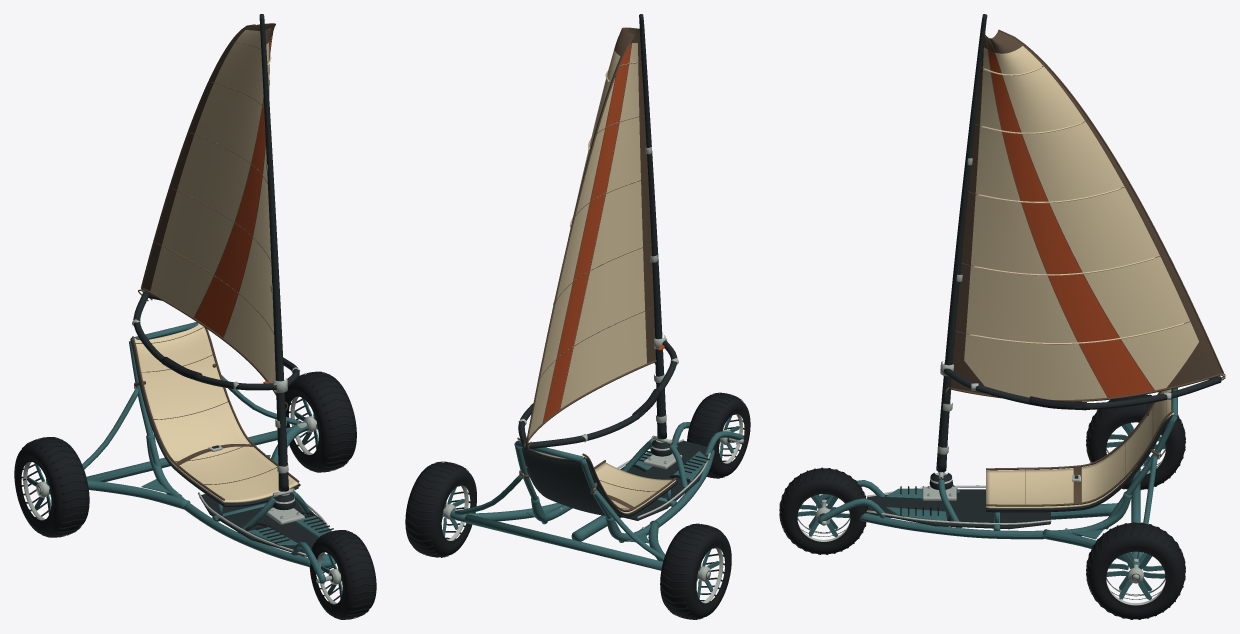
File: sand_sail_kart.glb
The picture shows the model from 3 angles, left to right: view 1: azimuth 30°, elevation 25°; view 2: azimuth 150°, elevation 25°; view 3: azimuth 270°, elevation 25°; orthographic projection. The views are drawn at different scales.
Parts seen in each view (by area): view 1: Cambered_Canvas_Sail, Chassis_Canvas, Chassis_Frame, Wheel_Rear_L_Rubber, Rig_Dark, Wheel_Rear_R_Rubber, Wheel_Front_Rubber, Chassis_Dark, Rig_Web, Chassis_Web, Chassis_Metal; view 2: Cambered_Canvas_Sail, Chassis_Frame, Chassis_Dark, Wheel_Rear_L_Rubber, Wheel_Rear_R_Rubber, Rig_Dark, Wheel_Front_Rubber, Rig_Web, Chassis_Canvas, Chassis_Metal, Chassis_Web; view 3: Cambered_Canvas_Sail, Chassis_Frame, Chassis_Canvas, Wheel_Rear_R_Rubber, Rig_Dark, Chassis_Dark, Rig_Web, Wheel_Front_Rubber, Wheel_Rear_L_Rubber, Chassis_Web, Rig_Canvas, Chassis_Metal (+2 smaller).
Boxes of the visible parts, x1,y1,x2,y2 form: Cambered_Canvas_Sail: (142, 23, 275, 383); Chassis_Canvas: (132, 323, 298, 502); Chassis_Frame: (82, 322, 335, 583); Wheel_Rear_L_Rubber: (14, 437, 89, 537); Rig_Dark: (133, 14, 299, 491); Wheel_Rear_R_Rubber: (284, 371, 356, 472); Wheel_Front_Rubber: (309, 530, 376, 619); Chassis_Dark: (131, 340, 323, 556); Rig_Web: (138, 24, 288, 410); Chassis_Web: (132, 327, 299, 500); Chassis_Metal: (36, 382, 333, 584); Cambered_Canvas_Sail: (528, 27, 655, 438); Chassis_Frame: (450, 422, 743, 570); Chassis_Dark: (516, 440, 707, 527); Wheel_Rear_L_Rubber: (660, 523, 731, 619); Wheel_Rear_R_Rubber: (405, 461, 476, 557); Rig_Dark: (518, 14, 677, 449); Wheel_Front_Rubber: (687, 392, 750, 478); Rig_Web: (523, 27, 656, 448); Chassis_Canvas: (518, 440, 676, 513); Chassis_Metal: (443, 435, 744, 578); Chassis_Web: (517, 437, 676, 511); Cambered_Canvas_Sail: (954, 31, 1221, 399); Chassis_Frame: (818, 387, 1177, 565); Chassis_Canvas: (986, 389, 1173, 508); Wheel_Rear_R_Rubber: (1086, 522, 1185, 619); Rig_Dark: (936, 14, 1221, 472); Chassis_Dark: (867, 414, 1173, 529); Rig_Web: (945, 29, 1225, 401); Wheel_Front_Rubber: (779, 467, 867, 554); Wheel_Rear_L_Rubber: (1086, 394, 1185, 489); Chassis_Web: (986, 390, 1173, 506); Rig_Canvas: (969, 66, 1183, 344); Chassis_Metal: (818, 452, 1159, 580).
Bounding box in the file's own units: 2.23 × 3.84 × 2.89.
